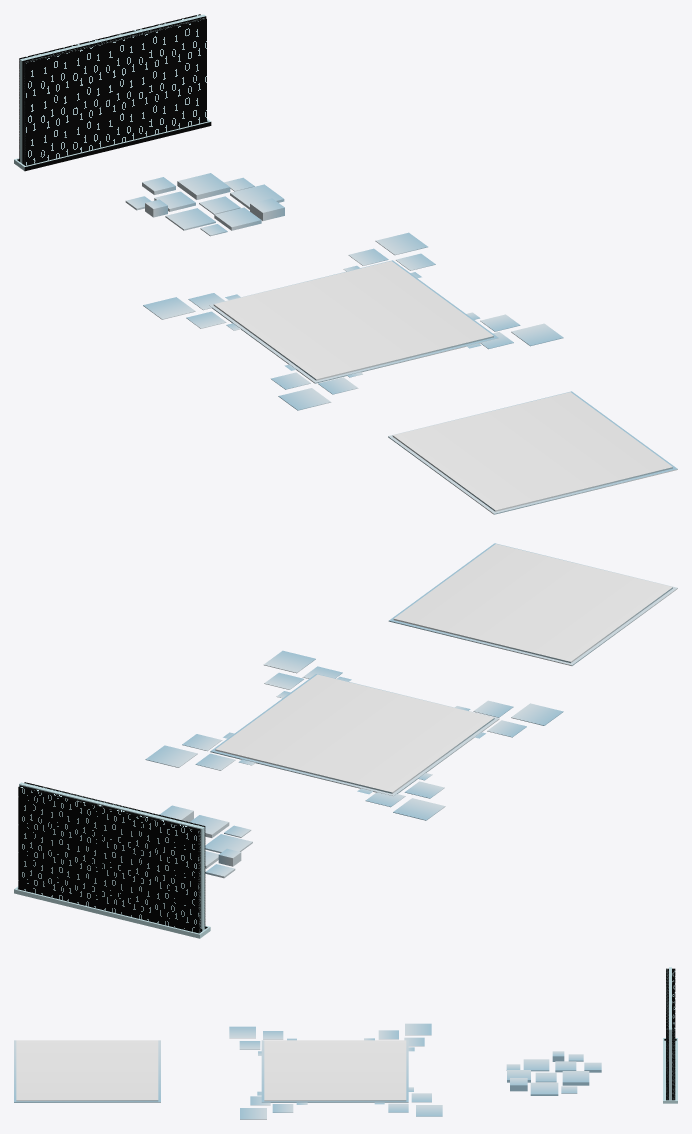
The model's file is first_level_cardinal.glb.
3 renders of one model, top to bottom at view 1: azimuth 30°, elevation 25°; view 2: azimuth 150°, elevation 25°; view 3: azimuth 270°, elevation 25°, orthographic. The views are drawn at different scales.
Parts seen in each view (by area): view 1: Floor_with_Cubes, Wall, Floor, Cubes; view 2: Floor_with_Cubes, Wall, Floor, Cubes; view 3: Floor_with_Cubes, Floor, Cubes, Wall.
Boxes of the visible parts, x1=… form: Floor_with_Cubes: x1=143, y1=232, x2=563, y2=410; Wall: x1=14, y1=14, x2=211, y2=171; Floor: x1=388, y1=391, x2=677, y2=514; Cubes: x1=125, y1=173, x2=284, y2=236; Floor_with_Cubes: x1=145, y1=650, x2=563, y2=820; Wall: x1=14, y1=782, x2=210, y2=938; Floor: x1=388, y1=543, x2=677, y2=665; Cubes: x1=159, y1=805, x2=252, y2=878; Floor_with_Cubes: x1=229, y1=1023, x2=442, y2=1119; Floor: x1=14, y1=1040, x2=160, y2=1102; Cubes: x1=506, y1=1051, x2=601, y2=1095; Wall: x1=663, y1=967, x2=677, y2=1103.
Size of the model in its own units: 6.14 by 2.22 by 18.07.
Materials: 2 (2 with a texture image).
